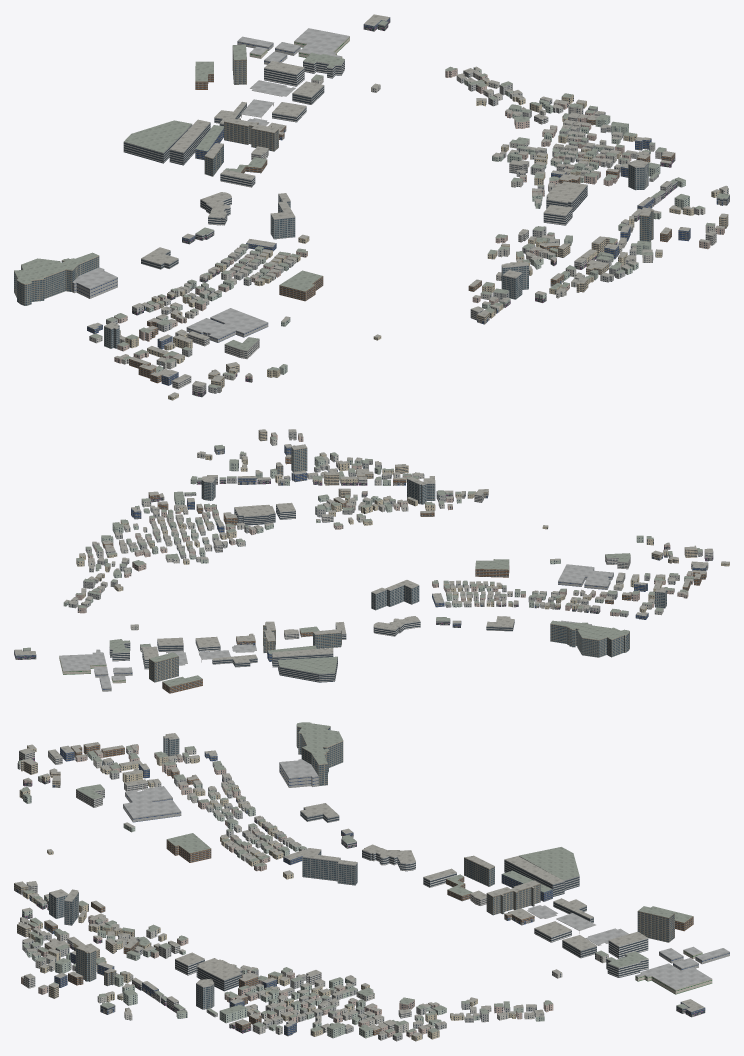
The model's file is ArahaTown_Block_W02048_S03072.gltf.
3 views of the same model, one above another, from view 1: azimuth 30°, elevation 25°; view 2: azimuth 150°, elevation 25°; view 3: azimuth 270°, elevation 25° (orthographic). The views are drawn at different scales.
Parts seen in each view (by area): view 1: ArahaTown_Block_W02048_S03072; view 2: ArahaTown_Block_W02048_S03072; view 3: ArahaTown_Block_W02048_S03072.
Part boxes in pixels (bbox=[...]): ArahaTown_Block_W02048_S03072: bbox=[14, 14, 729, 400]; ArahaTown_Block_W02048_S03072: bbox=[14, 429, 729, 693]; ArahaTown_Block_W02048_S03072: bbox=[14, 722, 729, 1041].
Bounding box in the file's own units: 1057 × 75.14 × 1056.
Materials: 22 (21 with a texture image).
